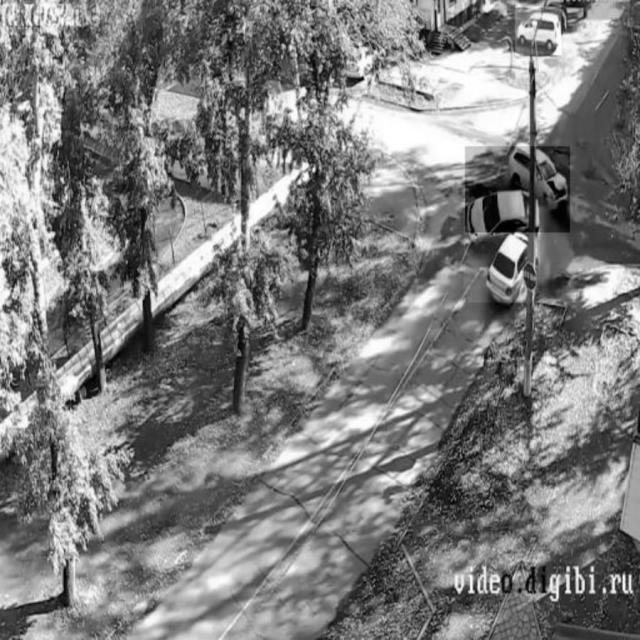accident: (465, 146, 569, 232), (464, 190, 540, 302)
vehicle: (516, 6, 562, 54)
